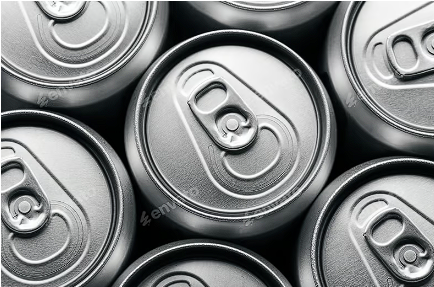Intacto: (137, 44, 325, 219), (0, 108, 120, 287), (2, 0, 180, 100), (311, 160, 434, 287), (345, 0, 434, 152), (122, 242, 286, 287)
